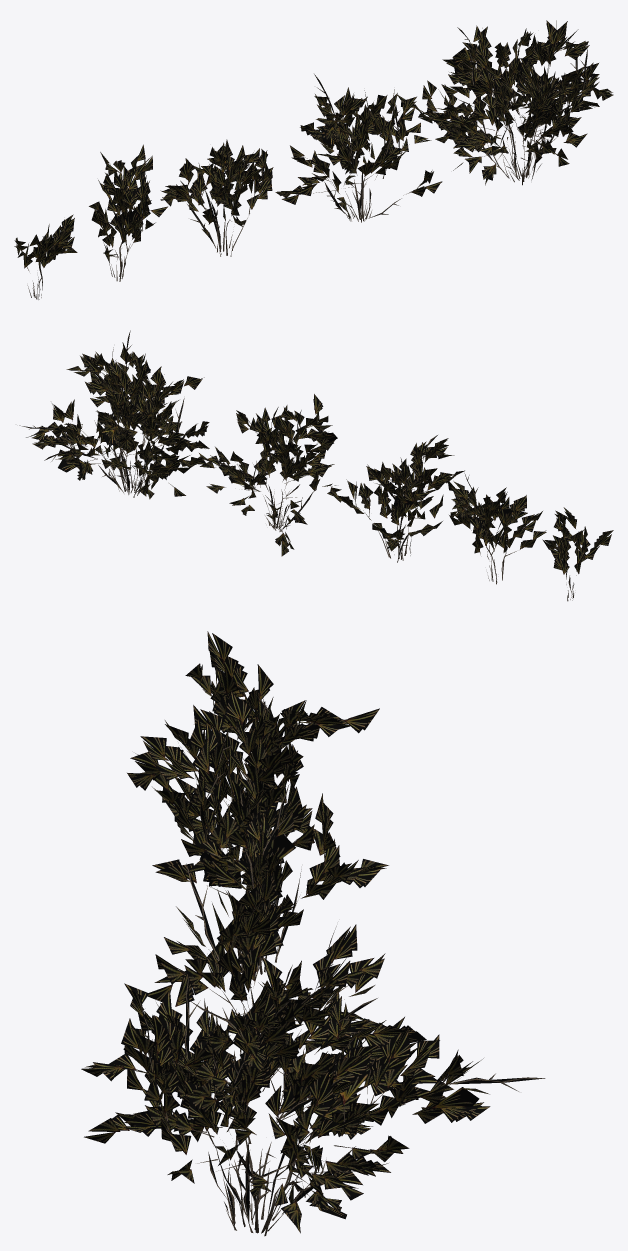
3 views of the same model, one above another, from view 1: azimuth 30°, elevation 25°; view 2: azimuth 150°, elevation 25°; view 3: azimuth 270°, elevation 25° (orthographic). The views are drawn at different scales.
Parts seen in each view (by area): view 1: wild_rooibos_bush_a, wild_rooibos_bush_b, wild_rooibos_bush_c, wild_rooibos_bush_d, wild_rooibos_bush_e; view 2: wild_rooibos_bush_a, wild_rooibos_bush_b, wild_rooibos_bush_c, wild_rooibos_bush_d, wild_rooibos_bush_e; view 3: wild_rooibos_bush_a, wild_rooibos_bush_b, wild_rooibos_bush_c, wild_rooibos_bush_d, wild_rooibos_bush_e.
Part boxes in pixels (box(x1,y1,x2,y2)): wild_rooibos_bush_a: box(397, 20, 613, 185); wild_rooibos_bush_b: box(275, 74, 442, 222); wild_rooibos_bush_c: box(160, 139, 273, 256); wild_rooibos_bush_d: box(89, 144, 167, 281); wild_rooibos_bush_e: box(14, 214, 77, 299); wild_rooibos_bush_a: box(19, 330, 220, 499); wild_rooibos_bush_b: box(200, 394, 341, 556); wild_rooibos_bush_c: box(327, 435, 464, 562); wild_rooibos_bush_d: box(447, 473, 546, 584); wild_rooibos_bush_e: box(542, 507, 613, 601); wild_rooibos_bush_a: box(81, 956, 545, 1236); wild_rooibos_bush_b: box(138, 784, 386, 1091); wild_rooibos_bush_c: box(127, 718, 388, 974); wild_rooibos_bush_d: box(165, 664, 379, 845); wild_rooibos_bush_e: box(185, 631, 266, 791).
Bounding box in the file's own units: 2.27 × 0.533 × 0.8279.
Materials: 2 (2 with a texture image).
